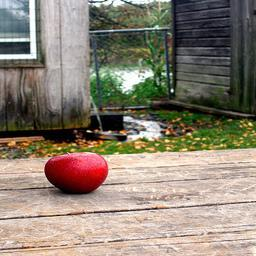apple: (43, 151, 108, 194)
